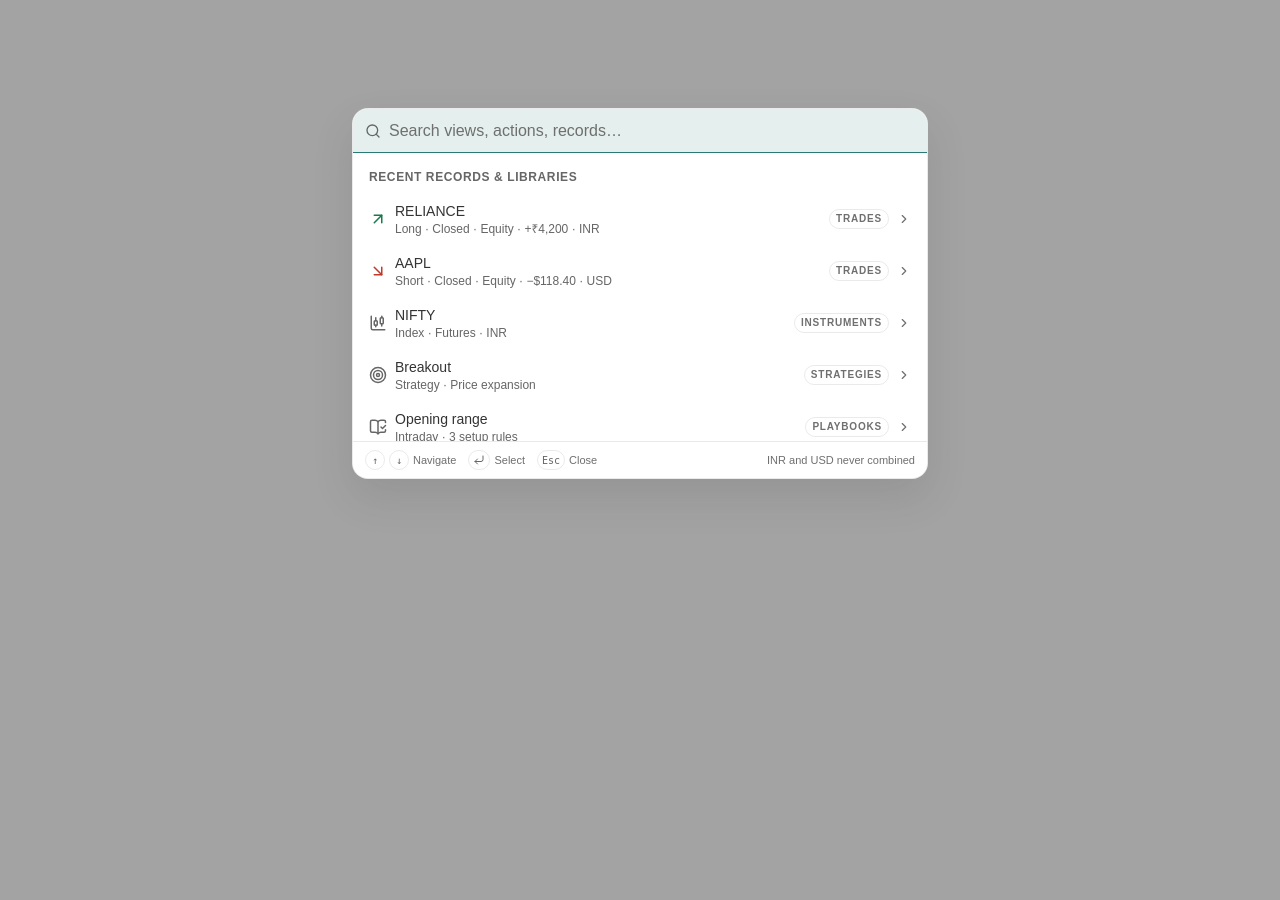
it: command palette › shows a safe record DTO when only server-side private text matched
The width and height of the screenshot is (1280, 900).
Type "private phrase" into the dropdown with placeholder "Search views, actions, records…". click: (652, 130)
box: [389,108,915,152]
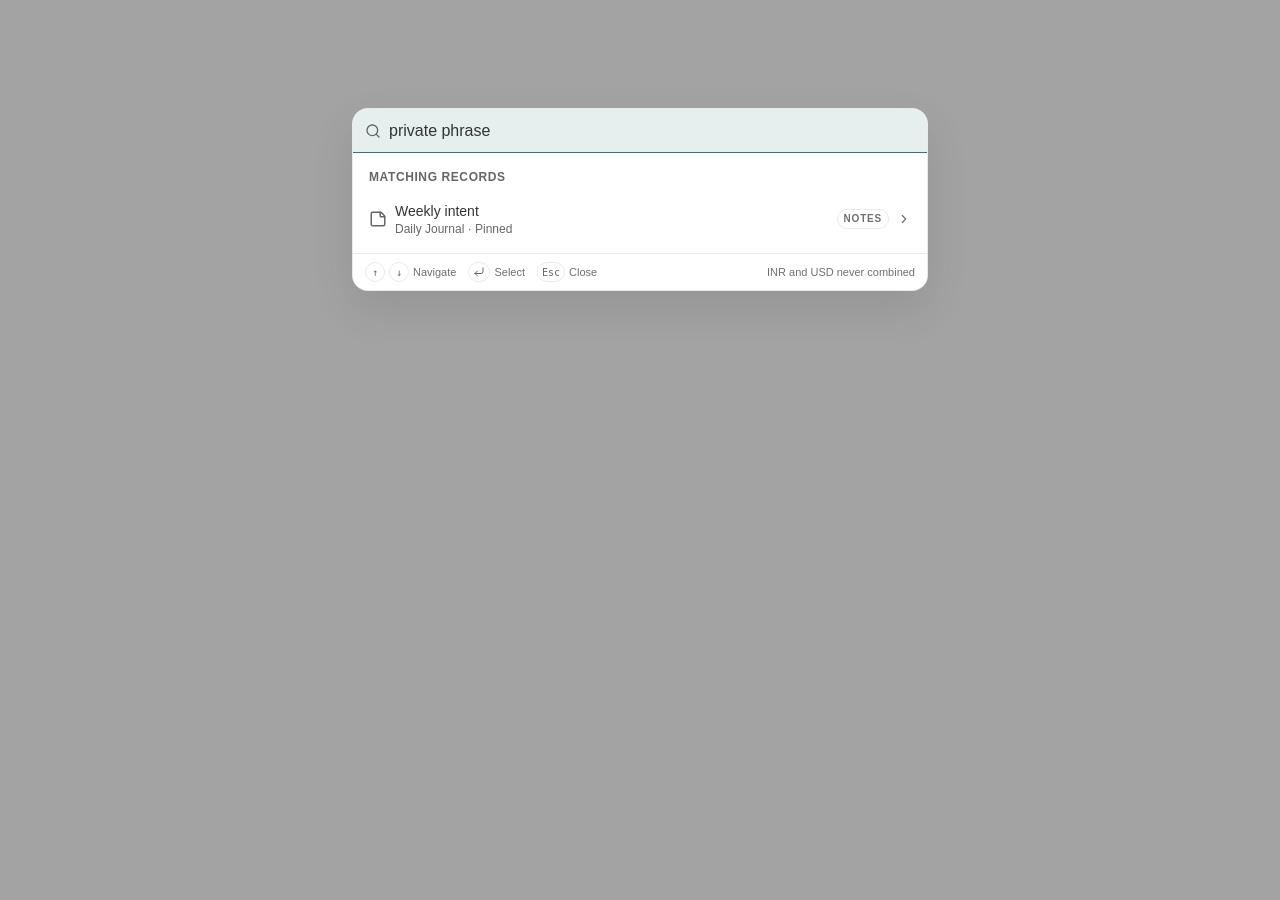
Now the text "Weekly intent" is shown, box [395,203,479,219]
